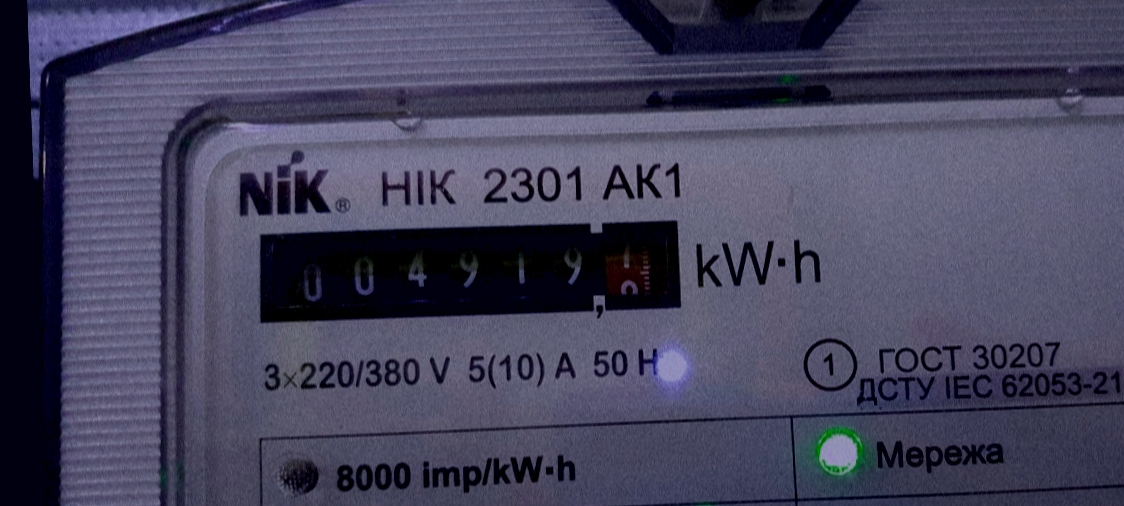0: (350, 251, 377, 297), (299, 258, 324, 303)
1: (512, 240, 528, 286)
4: (402, 244, 428, 288)
7: (612, 230, 637, 270)
9: (559, 241, 584, 288), (456, 246, 481, 290)
screen: (245, 204, 698, 340)
